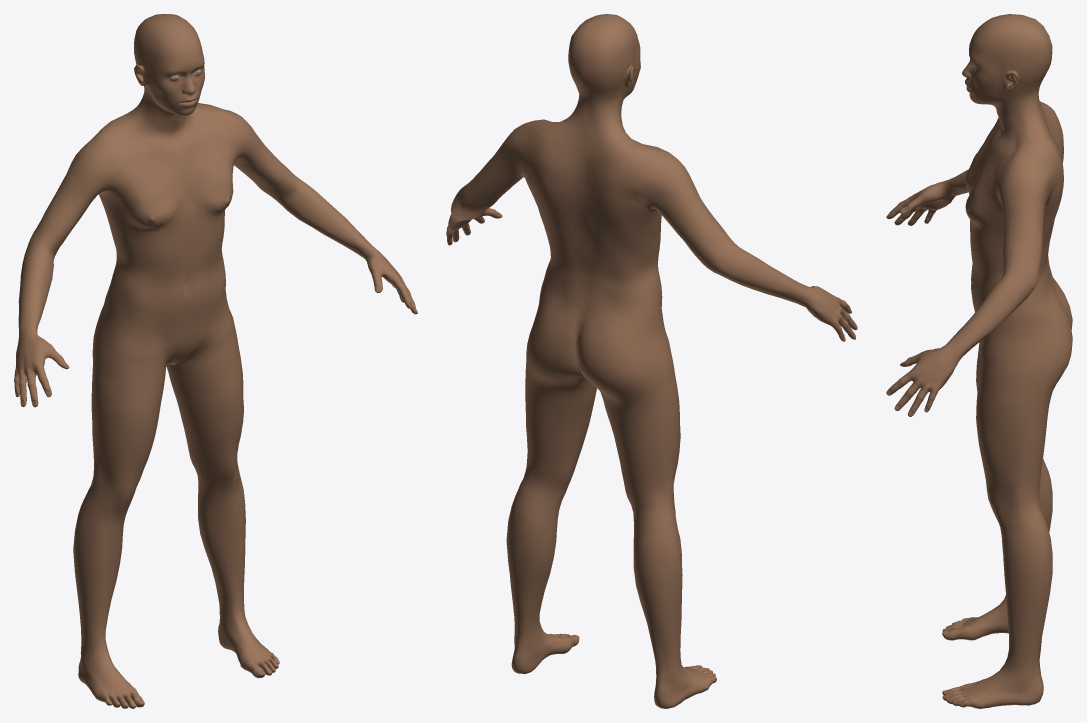
Rendered from REALDummy.obj.
3 renders of one model, left to right at view 1: azimuth 30°, elevation 25°; view 2: azimuth 150°, elevation 25°; view 3: azimuth 270°, elevation 25°, orthographic.
Parts seen in each view (by area): view 1: base.obj; view 2: base.obj; view 3: base.obj.
Part boxes in pixels (bbox=[...]): base.obj: bbox=[14, 14, 417, 708]; base.obj: bbox=[446, 14, 857, 708]; base.obj: bbox=[886, 14, 1072, 708].
Bounding box in the file's own units: 10.52 × 16.59 × 4.3.
